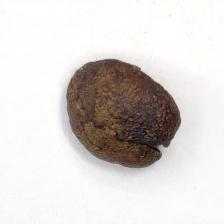NG: (105, 64, 181, 163)
